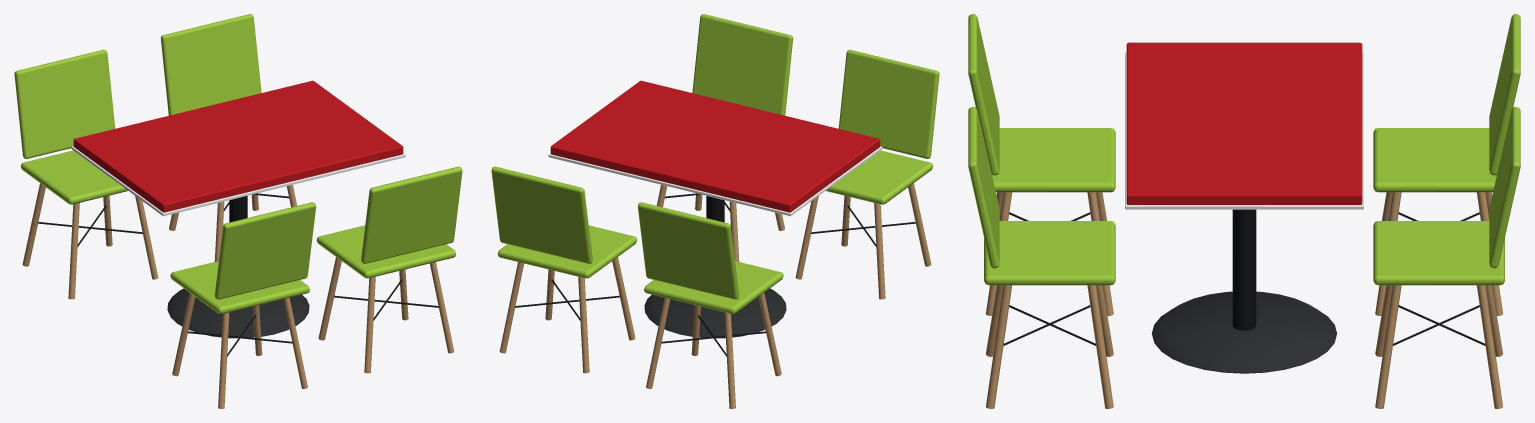
Rendered from table-4.glb.
3 renders of one model, left to right at view 1: azimuth 30°, elevation 25°; view 2: azimuth 150°, elevation 25°; view 3: azimuth 270°, elevation 25°, orthographic. The views are drawn at different scales.
Visible parts, largest first — view 1: BODY; view 2: BODY; view 3: BODY.
Boxes of the visible parts, box(x1,y1,x2,y2) form: BODY: box(14, 14, 462, 408); BODY: box(491, 14, 939, 408); BODY: box(968, 14, 1520, 408).
Bounding box in the file's own units: 1.16 × 0.8692 × 1.76.
